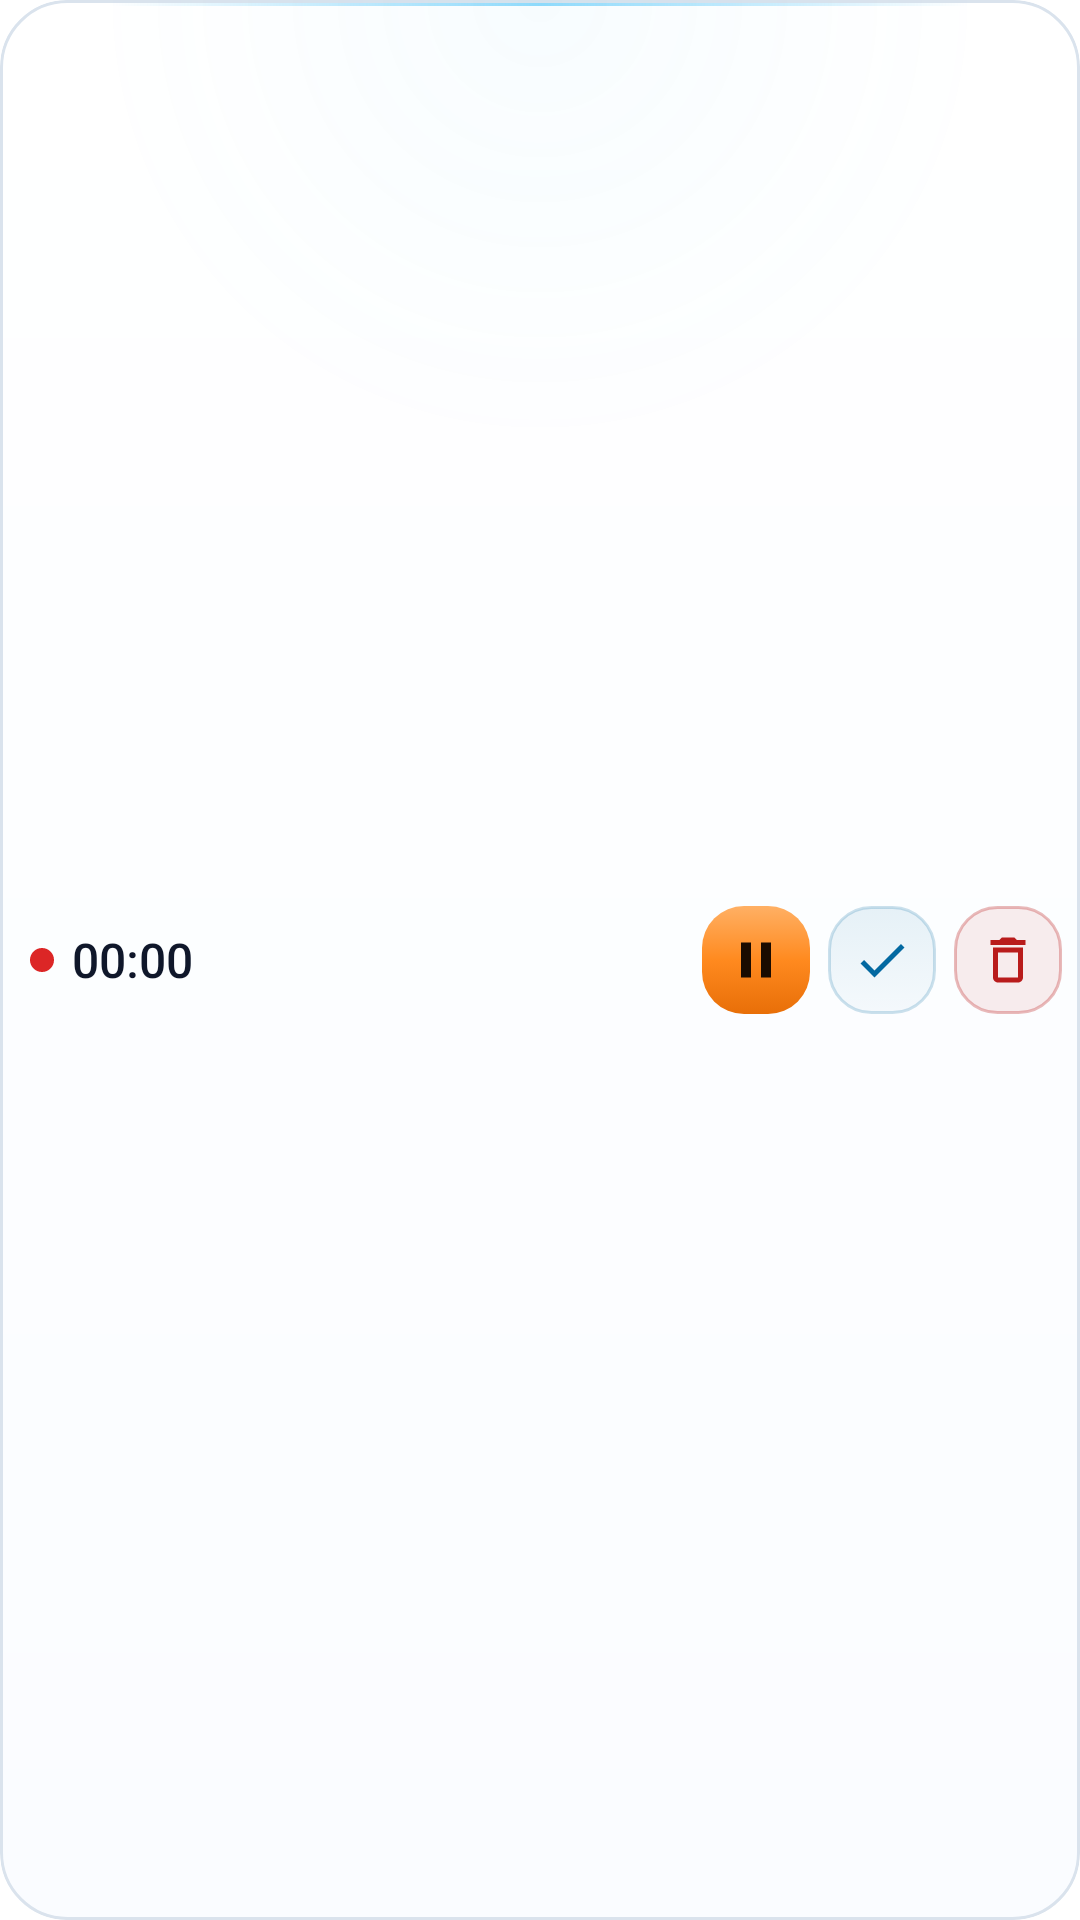

Icons on this 1080px×1920px Android screen, each with the point to tap as (x=x, y=y):
widget check: (x=882, y=961)
widget delete: (x=1008, y=960)
widget pause: (x=756, y=960)
widget rec dot: (x=42, y=960)
